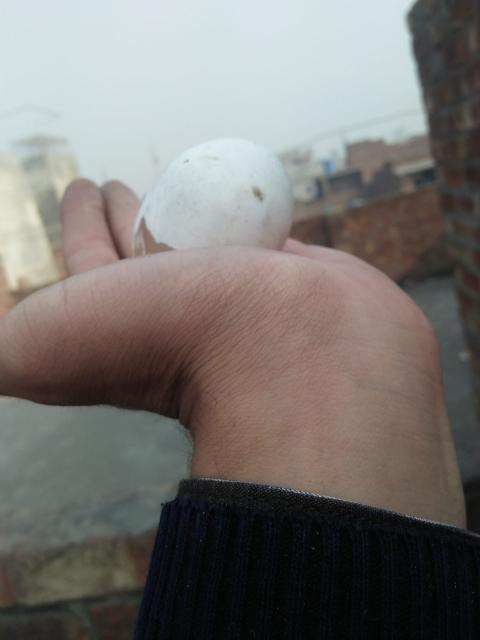Roto: (130, 137, 294, 260)
